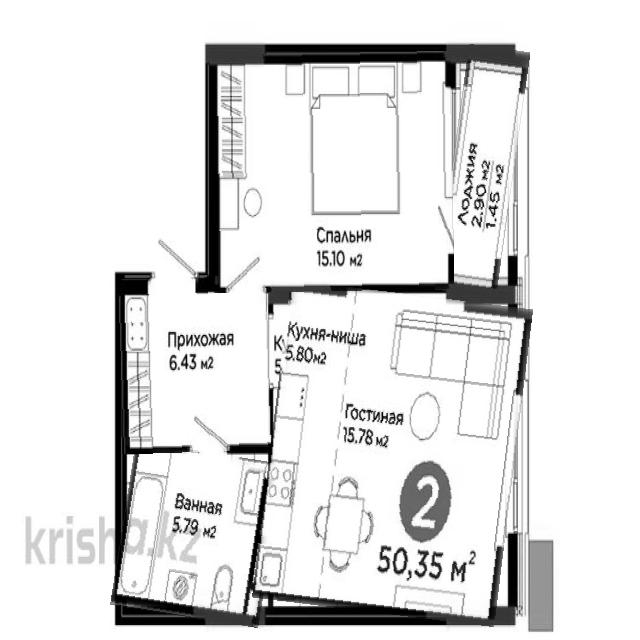balcony: (444, 46, 522, 296)
bathroom: (116, 446, 278, 624)
hallway: (117, 276, 271, 453)
living_room: (210, 52, 453, 292)
studio: (262, 287, 524, 621)
